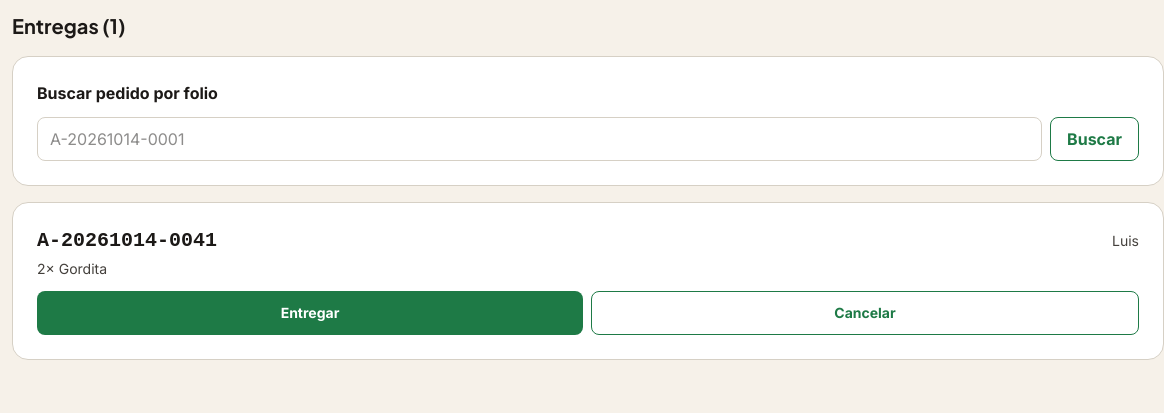
Test: caja: folio, detalle y resumen › entregas muestran partidas y avisan al entregar
Expected: the text "2× Gordita" is shown, [37,260,107,277]
Step 1. Click the button "Entregar" → [310, 313], box [37,291,583,335]
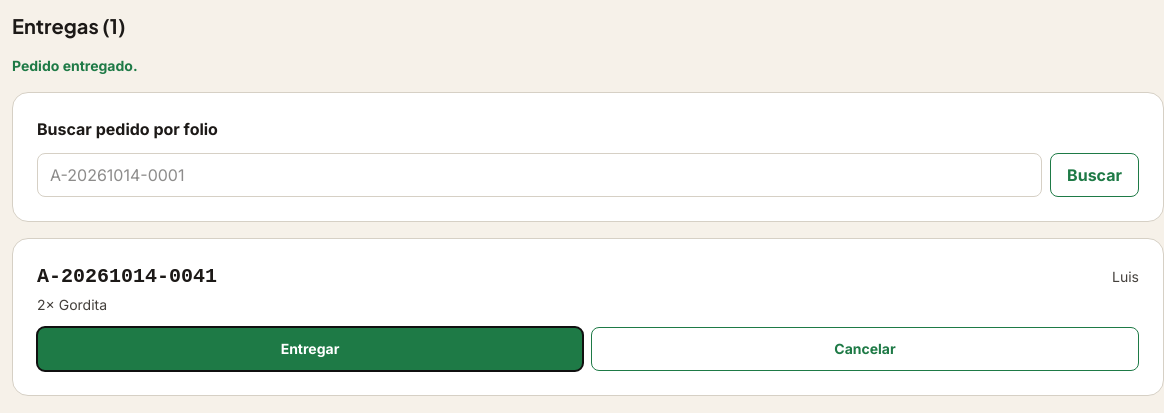
Result: the text "Pedido entregado." is shown at [12,57,138,74]
